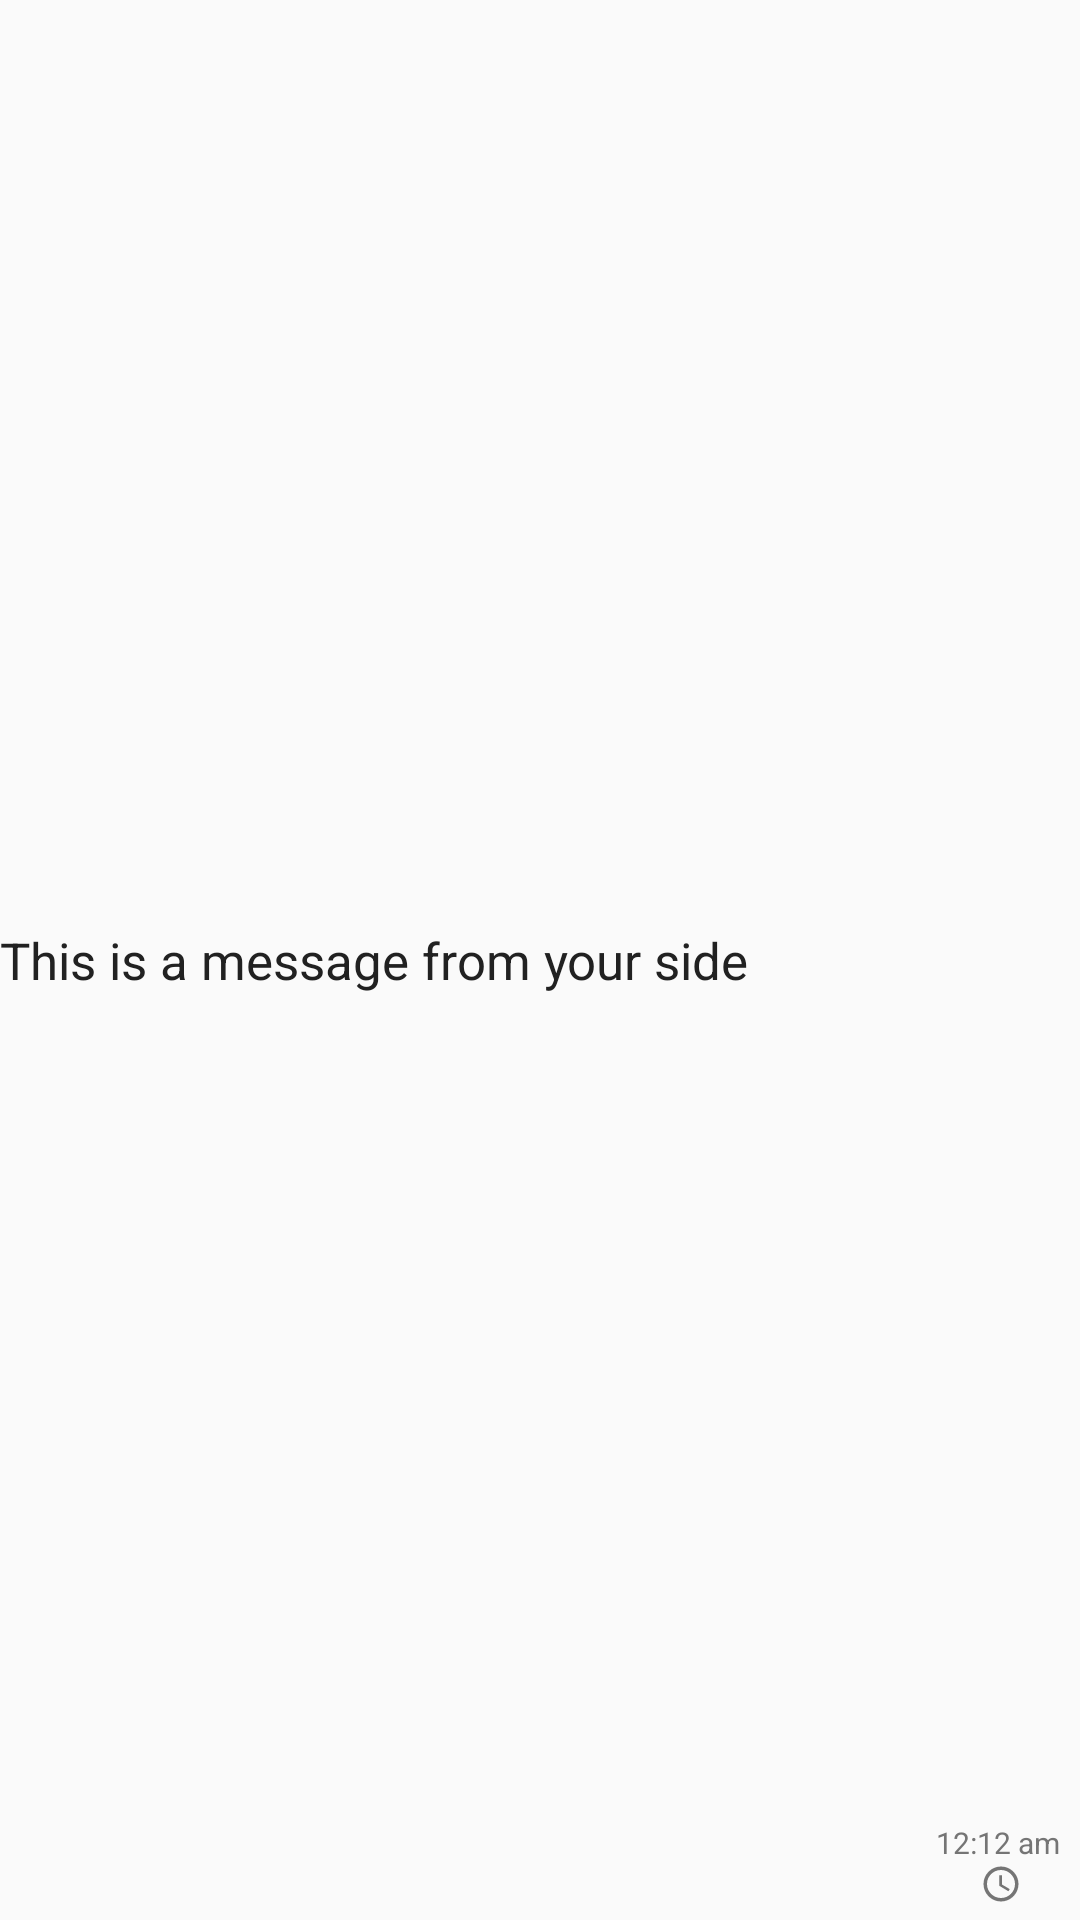

Point at icon controls on the screen. Image size 1080px×1920px, points as point (x, y).
access time text secondary: point (1001, 1884)
